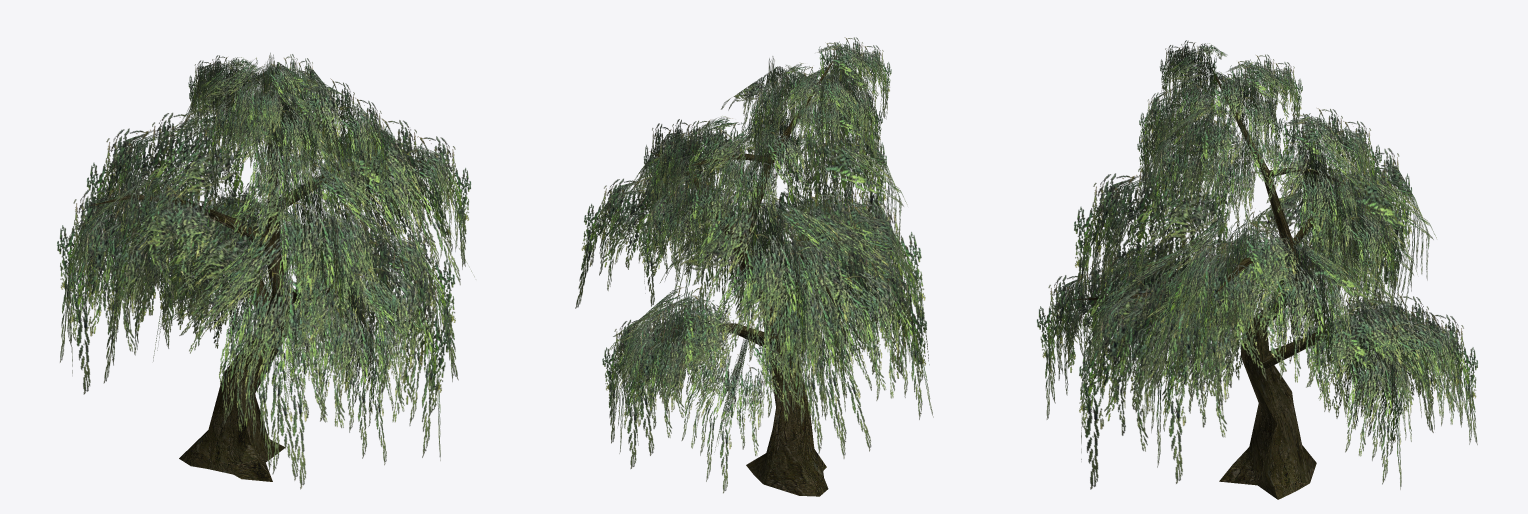
Rendered from tree705.glb.
3 renders of one model, left to right at view 1: azimuth 30°, elevation 25°; view 2: azimuth 150°, elevation 25°; view 3: azimuth 270°, elevation 25°, orthographic. The views are drawn at different scales.
Parts seen in each view (by area): view 1: tree705-col; view 2: tree705-col; view 3: tree705-col.
Boxes of the visible parts, x1=… form: tree705-col: x1=57, y1=52, x2=474, y2=489; tree705-col: x1=575, y1=37, x2=933, y2=496; tree705-col: x1=1037, y1=40, x2=1477, y2=499.
Size of the model in its own units: 25.3 by 25.31 by 26.56.
Materials: 2 (2 with a texture image).
